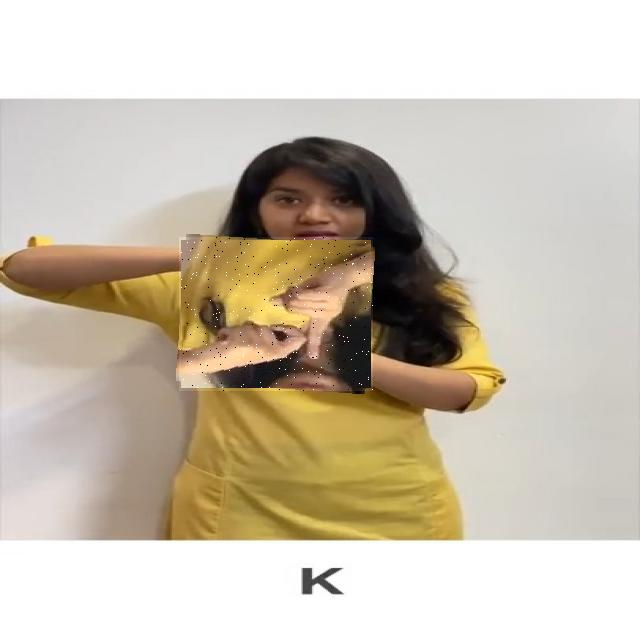K: (179, 237, 373, 391)
